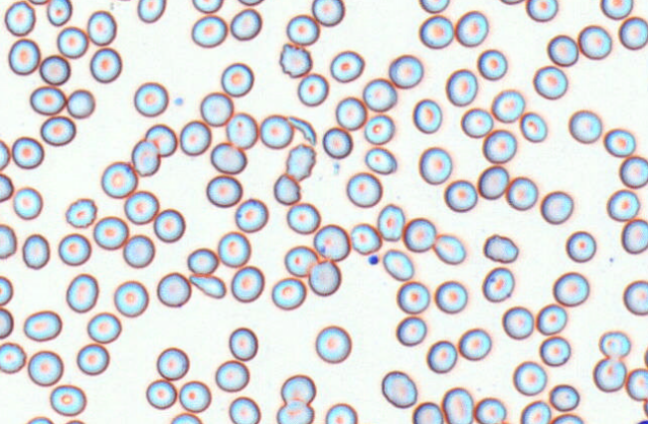PLT: (367, 255, 378, 265)
RBC: (313, 223, 350, 261), (100, 160, 137, 198), (381, 370, 417, 408), (315, 325, 351, 363), (113, 279, 148, 317), (65, 273, 98, 313), (27, 350, 63, 386), (346, 171, 382, 207), (552, 271, 589, 306), (418, 146, 452, 184), (156, 271, 191, 307), (133, 81, 168, 117), (577, 24, 612, 60), (230, 265, 264, 302), (23, 309, 62, 341), (512, 360, 547, 395), (93, 215, 128, 250), (362, 77, 397, 112), (418, 14, 453, 49), (123, 190, 159, 224), (308, 259, 341, 296), (210, 141, 247, 174), (225, 112, 258, 149), (205, 174, 242, 207), (7, 38, 40, 75), (455, 10, 488, 47), (445, 68, 477, 106), (592, 357, 626, 392), (234, 197, 268, 232), (259, 114, 293, 149), (199, 91, 233, 126), (388, 54, 423, 88), (217, 231, 250, 267), (191, 14, 227, 47), (89, 47, 122, 83), (49, 384, 86, 416), (285, 143, 316, 181), (57, 232, 91, 266), (482, 129, 516, 163), (533, 65, 567, 99), (568, 109, 602, 143), (279, 42, 312, 77), (283, 244, 318, 277), (271, 277, 306, 310), (403, 217, 436, 252), (122, 233, 155, 268), (220, 62, 253, 97), (329, 49, 364, 82), (441, 387, 473, 423), (482, 266, 514, 302), (179, 119, 211, 155), (215, 359, 249, 392), (156, 346, 189, 380), (443, 179, 477, 212), (396, 280, 429, 314), (501, 305, 534, 339), (491, 89, 524, 123), (540, 190, 573, 224), (86, 311, 121, 343), (4, 0, 35, 36), (40, 115, 76, 146), (376, 203, 405, 241), (144, 123, 177, 156), (458, 327, 491, 360), (434, 280, 467, 313), (11, 136, 44, 169), (153, 208, 185, 242), (286, 202, 320, 234), (477, 165, 509, 199), (505, 176, 537, 210), (280, 374, 315, 405), (29, 85, 65, 115), (131, 139, 160, 176), (178, 380, 211, 412), (76, 343, 109, 375), (56, 25, 88, 58), (606, 189, 639, 221), (335, 96, 366, 130), (285, 14, 319, 45), (412, 98, 442, 133), (86, 10, 116, 45), (432, 233, 465, 264), (426, 340, 457, 373), (297, 73, 328, 106), (460, 107, 493, 138), (230, 7, 261, 40), (228, 326, 257, 361), (22, 233, 50, 269), (65, 197, 97, 228), (350, 222, 381, 254), (382, 249, 413, 281), (536, 303, 567, 335), (565, 230, 596, 262), (547, 34, 578, 66), (12, 186, 42, 219), (618, 16, 647, 50), (395, 315, 426, 346), (539, 335, 570, 366), (39, 54, 70, 85), (322, 126, 352, 158), (477, 48, 507, 80), (603, 127, 635, 157), (621, 218, 647, 254), (145, 379, 176, 409), (363, 114, 394, 144), (619, 155, 647, 188), (273, 173, 301, 205), (186, 247, 218, 275), (364, 146, 396, 174), (598, 330, 630, 358), (276, 400, 314, 423), (66, 88, 95, 118), (519, 111, 547, 142), (228, 396, 260, 423), (623, 279, 647, 315), (473, 397, 506, 423), (311, 0, 344, 26), (549, 383, 579, 411), (0, 341, 26, 373), (625, 367, 647, 401), (519, 400, 551, 423), (525, 0, 558, 22), (411, 401, 443, 423), (324, 402, 357, 423), (136, 0, 166, 23), (46, 0, 72, 26), (600, 0, 633, 20), (0, 223, 17, 259), (0, 307, 13, 339), (191, 0, 223, 13), (418, 0, 449, 13), (0, 172, 13, 202), (0, 275, 13, 305), (170, 412, 202, 423), (549, 413, 583, 423), (0, 138, 10, 170), (26, 415, 53, 423), (236, 0, 264, 6), (63, 418, 85, 424), (498, 0, 524, 5), (643, 344, 648, 368), (27, 0, 50, 5), (642, 398, 648, 417), (636, 419, 647, 423), (111, 0, 135, 1)
Schistocyte: (483, 233, 520, 263), (188, 275, 224, 299), (288, 116, 317, 145)
